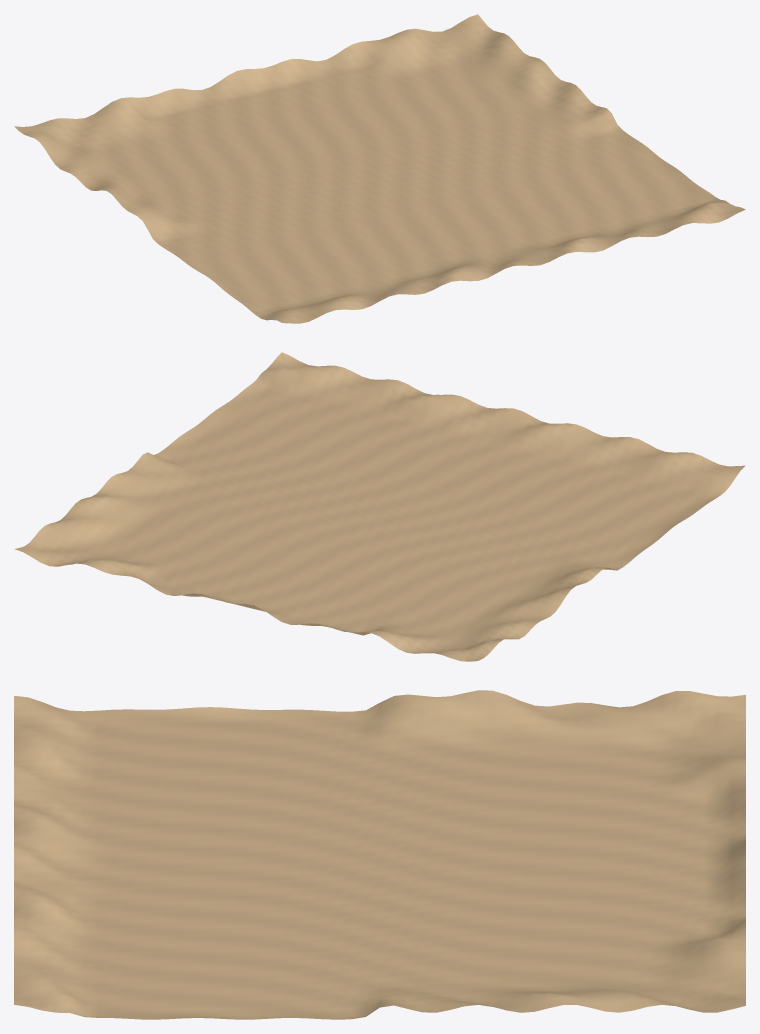
The model's file is 01_terrain.glb.
3 views of the same model, one above another, from view 1: azimuth 30°, elevation 25°; view 2: azimuth 150°, elevation 25°; view 3: azimuth 270°, elevation 25° (orthographic). The views are drawn at different scales.
Visible parts, largest first — view 1: terrain_dunes; view 2: terrain_dunes; view 3: terrain_dunes.
Boxes of the visible parts, x1,y1,x2,y2 form: terrain_dunes: (14, 14, 745, 323); terrain_dunes: (14, 352, 745, 661); terrain_dunes: (14, 690, 745, 1019).
Size of the model in its own units: 260 by 8.61 by 260.
